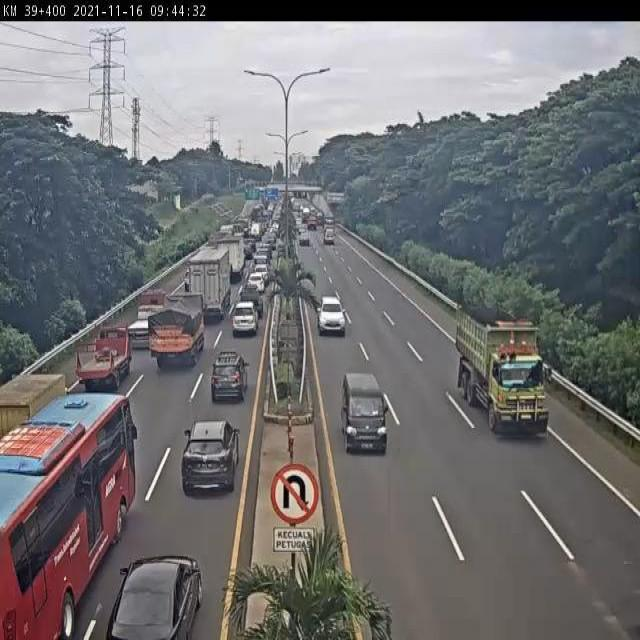big bus: (0, 396, 139, 633)
car: (101, 554, 208, 638), (178, 413, 240, 492), (339, 373, 393, 463), (205, 348, 248, 407), (313, 291, 348, 341), (228, 295, 255, 332)
small truck: (3, 371, 81, 441), (75, 321, 140, 391), (122, 291, 159, 337)
truck-l-: (453, 303, 559, 437), (187, 246, 233, 326)
truck-m-: (146, 287, 209, 376)
